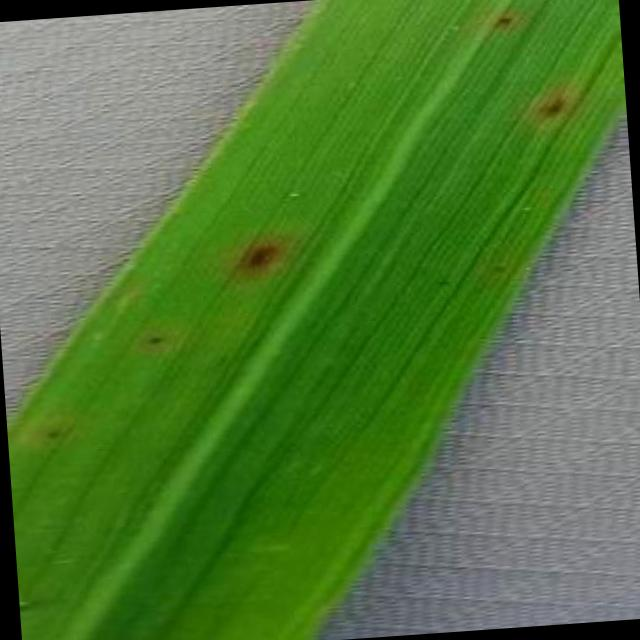Rice_Brownspot: (215, 220, 296, 286), (517, 82, 578, 126), (481, 0, 522, 37), (274, 178, 308, 205), (136, 326, 170, 352), (428, 268, 458, 296), (484, 255, 510, 283), (38, 422, 61, 444)
